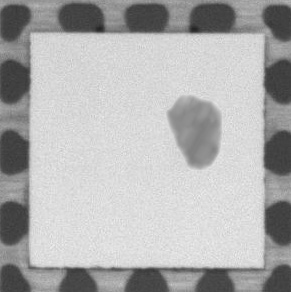DIE_INK: (159, 90, 225, 175)
